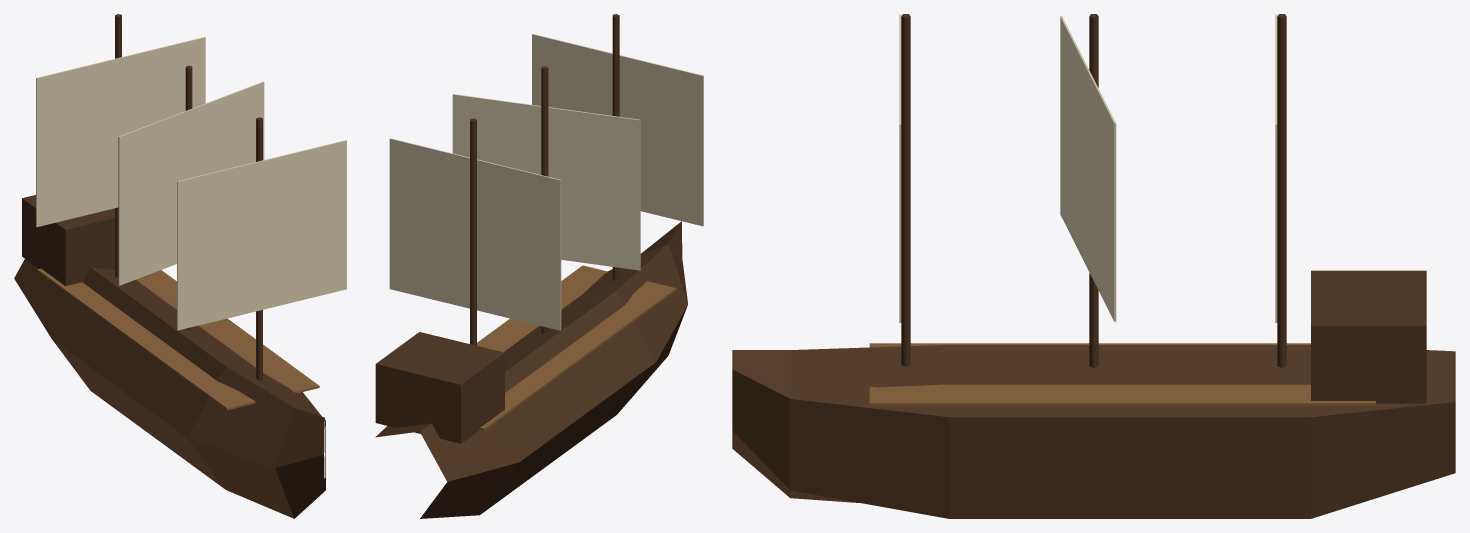
Rendered from veh_naval_merchant_a04_lod1.glb.
3 renders of one model, left to right at view 1: azimuth 30°, elevation 25°; view 2: azimuth 150°, elevation 25°; view 3: azimuth 270°, elevation 25°, orthographic. The views are drawn at different scales.
Parts seen in each view (by area): view 1: body, sail_2, sail_0, sail_1; view 2: body, sail_0, sail_1, sail_2; view 3: body, sail_1, sail_0, sail_2.
Boxes of the visible parts, left/top/right/bottom form: body: left=14, top=14, right=325, bottom=518; sail_2: left=177, top=140, right=346, bottom=330; sail_0: left=36, top=37, right=205, bottom=227; sail_1: left=118, top=81, right=264, bottom=285; body: left=375, top=14, right=687, bottom=518; sail_0: left=389, top=138, right=561, bottom=330; sail_1: left=452, top=94, right=640, bottom=270; sail_2: left=532, top=34, right=703, bottom=226; body: left=732, top=14, right=1455, bottom=518; sail_1: left=1060, top=16, right=1116, bottom=321; sail_0: left=1275, top=14, right=1277, bottom=322; sail_2: left=899, top=14, right=901, bottom=322.
Size of the model in its own units: 6.77 by 14.49 by 18.8.
